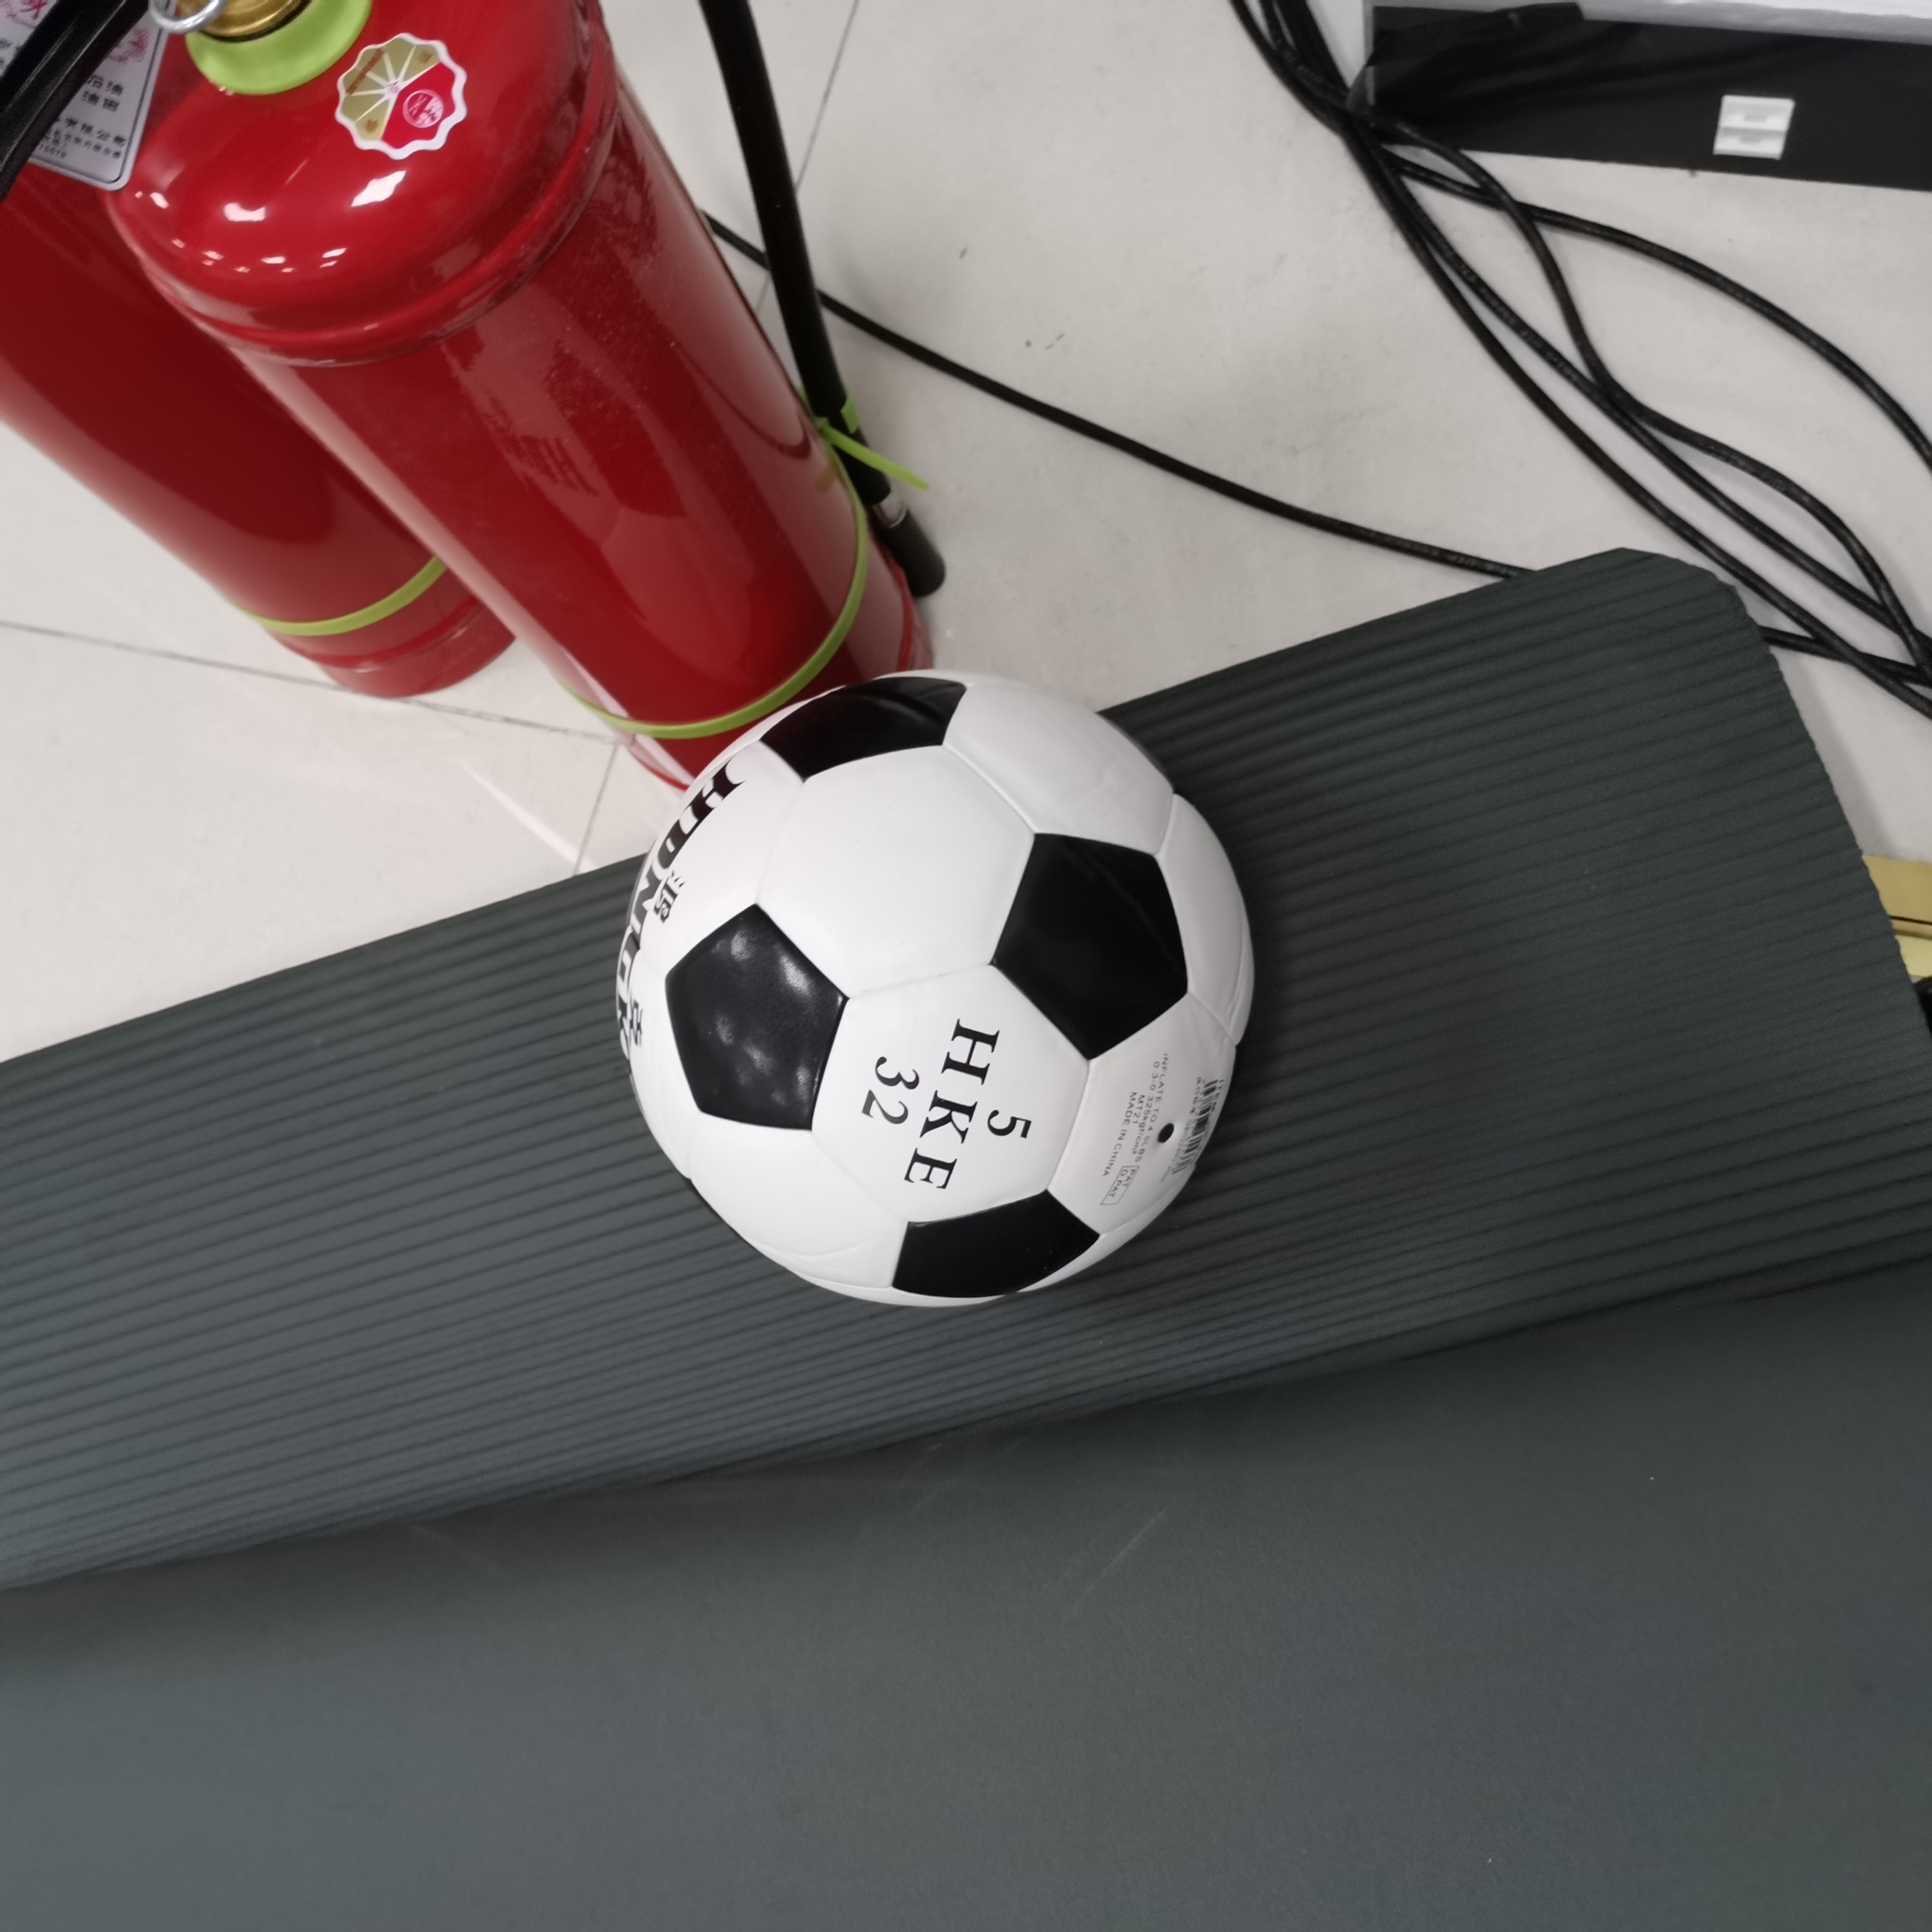football: (619, 672, 1256, 1313)
